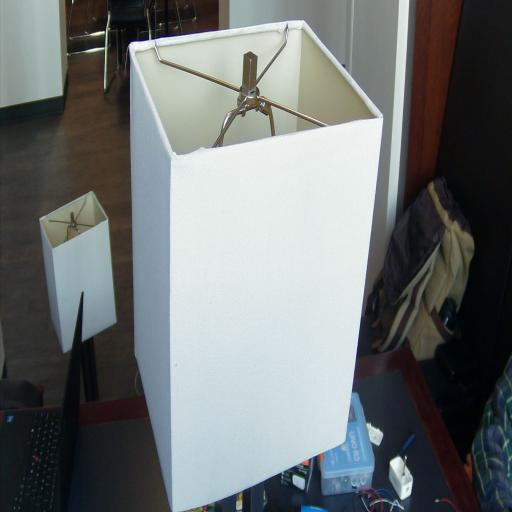lamp: (129, 21, 383, 512), (40, 190, 117, 402)
